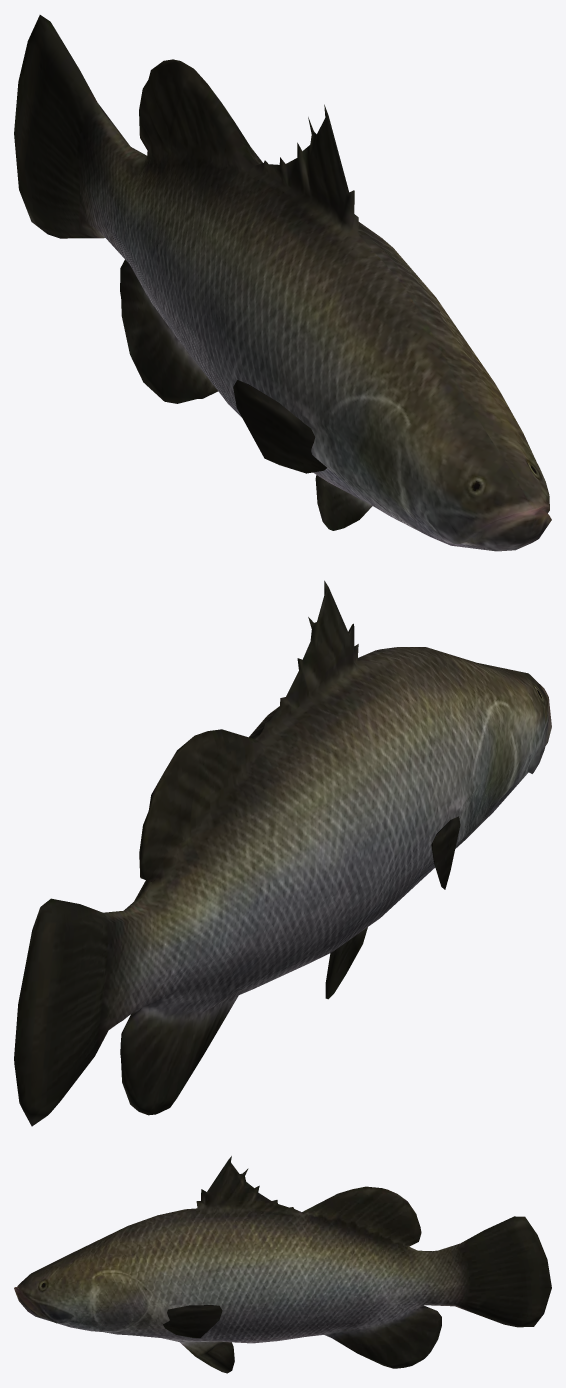
Rendered from barramundi_fish.glb.
The picture shows the model from 3 angles, top to bottom: view 1: azimuth 30°, elevation 25°; view 2: azimuth 150°, elevation 25°; view 3: azimuth 270°, elevation 25°; orthographic projection. The views are drawn at different scales.
Parts seen in each view (by area): view 1: BarramundiFish; view 2: BarramundiFish; view 3: BarramundiFish.
Boxes of the visible parts, <box> form: BarramundiFish: <box>14,15,551,551</box>; BarramundiFish: <box>14,580,551,1126</box>; BarramundiFish: <box>14,1156,551,1373</box>.
Size of the model in its own units: 0.1426 by 0.2875 by 0.6431.
1 material, 1 textured.
